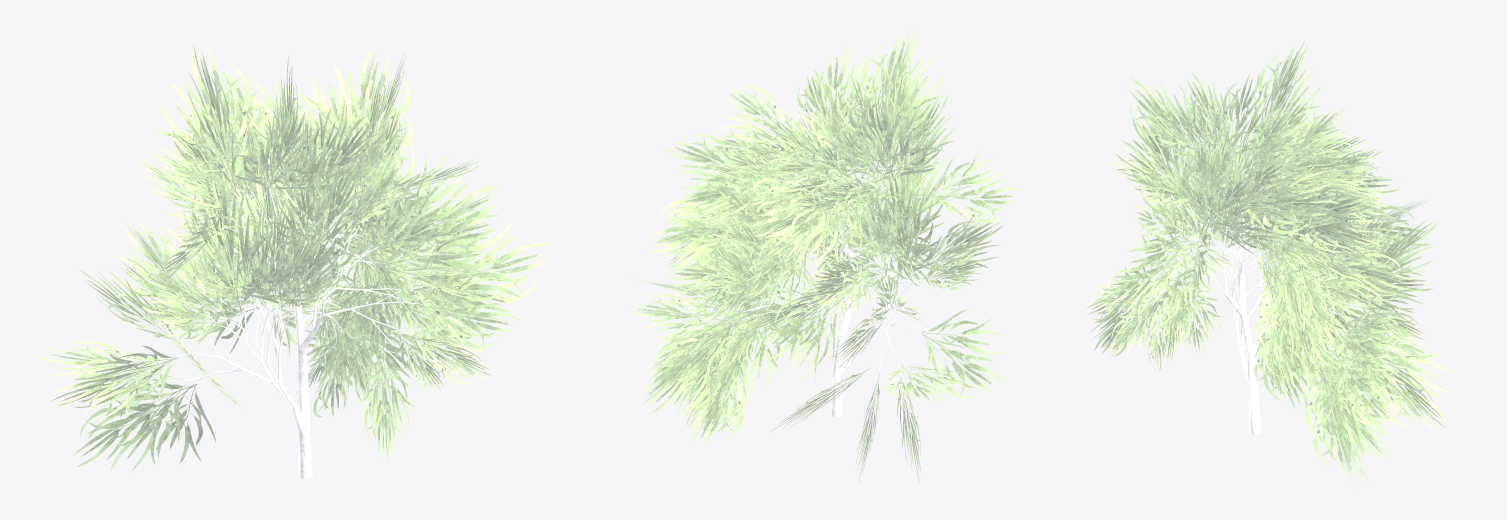
The model's file is SM_Bush.fbx.
3 renders of one model, left to right at view 1: azimuth 30°, elevation 25°; view 2: azimuth 150°, elevation 25°; view 3: azimuth 270°, elevation 25°, orthographic. The views are drawn at different scales.
Visible parts, largest first — view 1: SM_Bush; view 2: SM_Bush; view 3: SM_Bush.
Boxes of the visible parts, left/top/right/bottom form: SM_Bush: left=33, top=45, right=549, bottom=478; SM_Bush: left=627, top=30, right=1022, bottom=483; SM_Bush: left=1086, top=41, right=1451, bottom=490.
Bounding box in the file's own units: 142 × 140 × 150.
2 materials, 1 textured.
